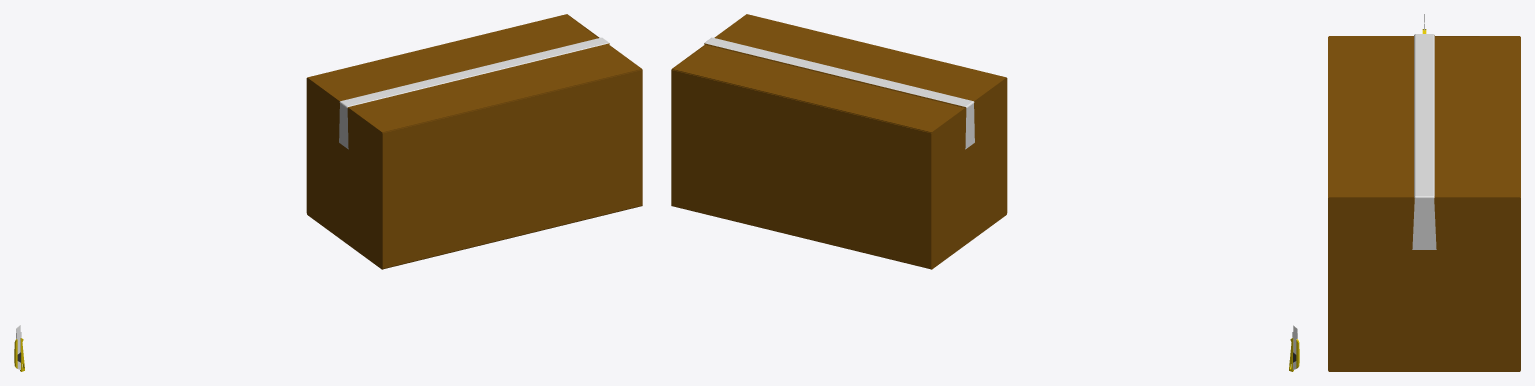
The model's file is cardboardbox.gltf.
The picture shows the model from 3 angles, left to right: view 1: azimuth 30°, elevation 25°; view 2: azimuth 150°, elevation 25°; view 3: azimuth 270°, elevation 25°; orthographic projection. The views are drawn at different scales.
Parts seen in each view (by area): view 1: Box, FlapOne, FlapTwo; view 2: Box, FlapTwo, FlapOne; view 3: Box, FlapTwo, FlapOne, Tape.
Boxes of the visible parts, x1,y1,x2,y2 form: Box: (306, 14, 642, 269); FlapOne: (343, 40, 641, 132); FlapTwo: (308, 14, 604, 104); Box: (671, 14, 1007, 269); FlapTwo: (672, 40, 970, 132); FlapOne: (709, 14, 1005, 104); Box: (1328, 36, 1520, 371); FlapTwo: (1424, 34, 1519, 198); FlapOne: (1329, 34, 1424, 198); Tape: (1412, 198, 1436, 249).
Bounding box in the file's own units: 9.1 × 2.77 × 2.02.
